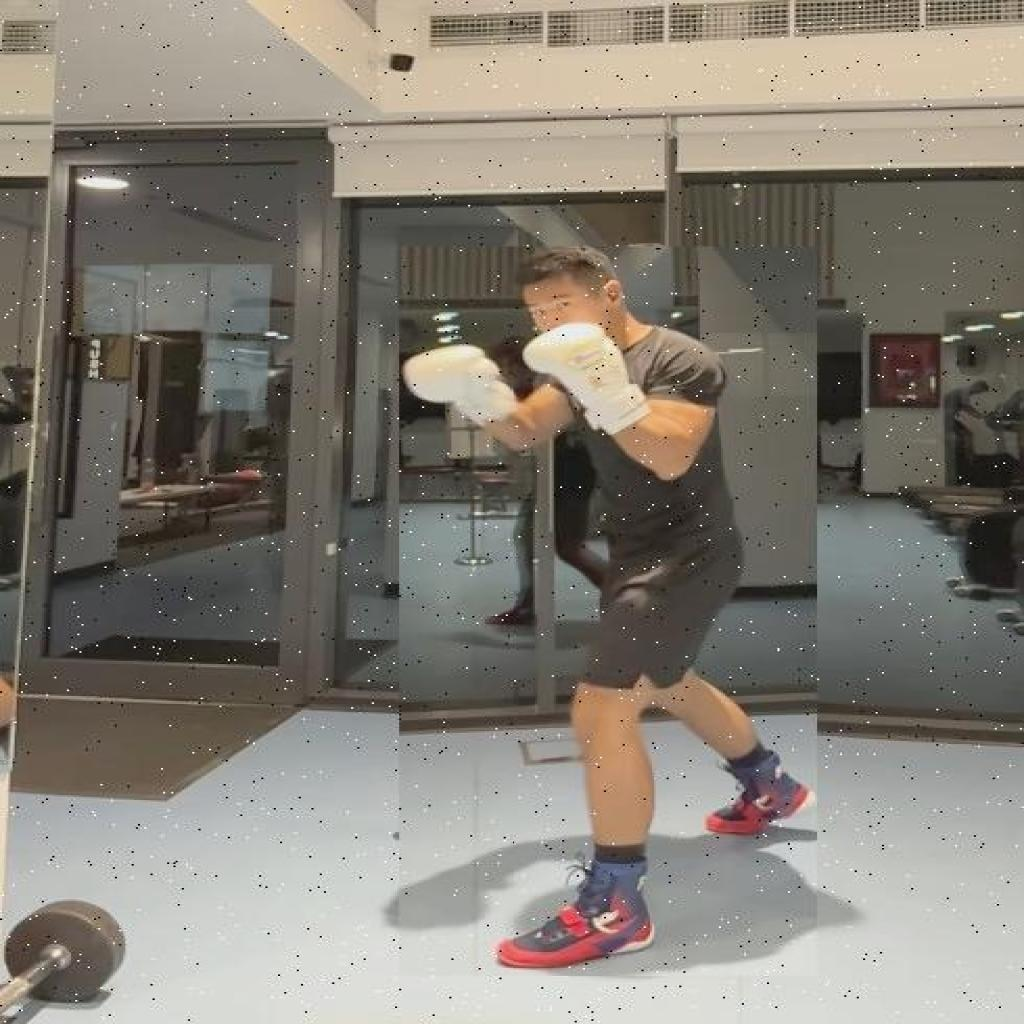no punch: (399, 246, 817, 977)
